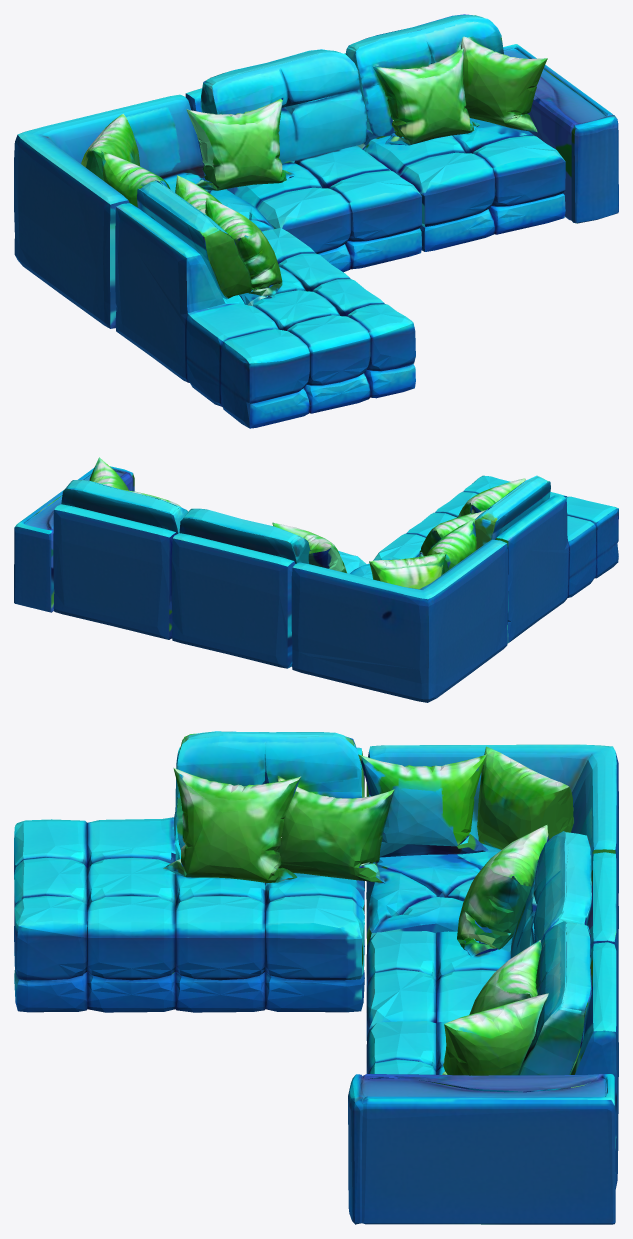
Rendered from edited_mesh.glb.
3 renders of one model, top to bottom at view 1: azimuth 30°, elevation 25°; view 2: azimuth 150°, elevation 25°; view 3: azimuth 270°, elevation 25°, orthographic. The views are drawn at different scales.
Visible parts, largest first — view 1: solid_001_wire; view 2: solid_001_wire; view 3: solid_001_wire.
Part boxes in pixels (<box>): solid_001_wire: <box>14,14,618,428</box>; solid_001_wire: <box>14,457,618,702</box>; solid_001_wire: <box>14,731,618,1224</box>.
Size of the model in its own units: 2 by 0.5776 by 1.61.
Materials: 1 (1 with a texture image).
